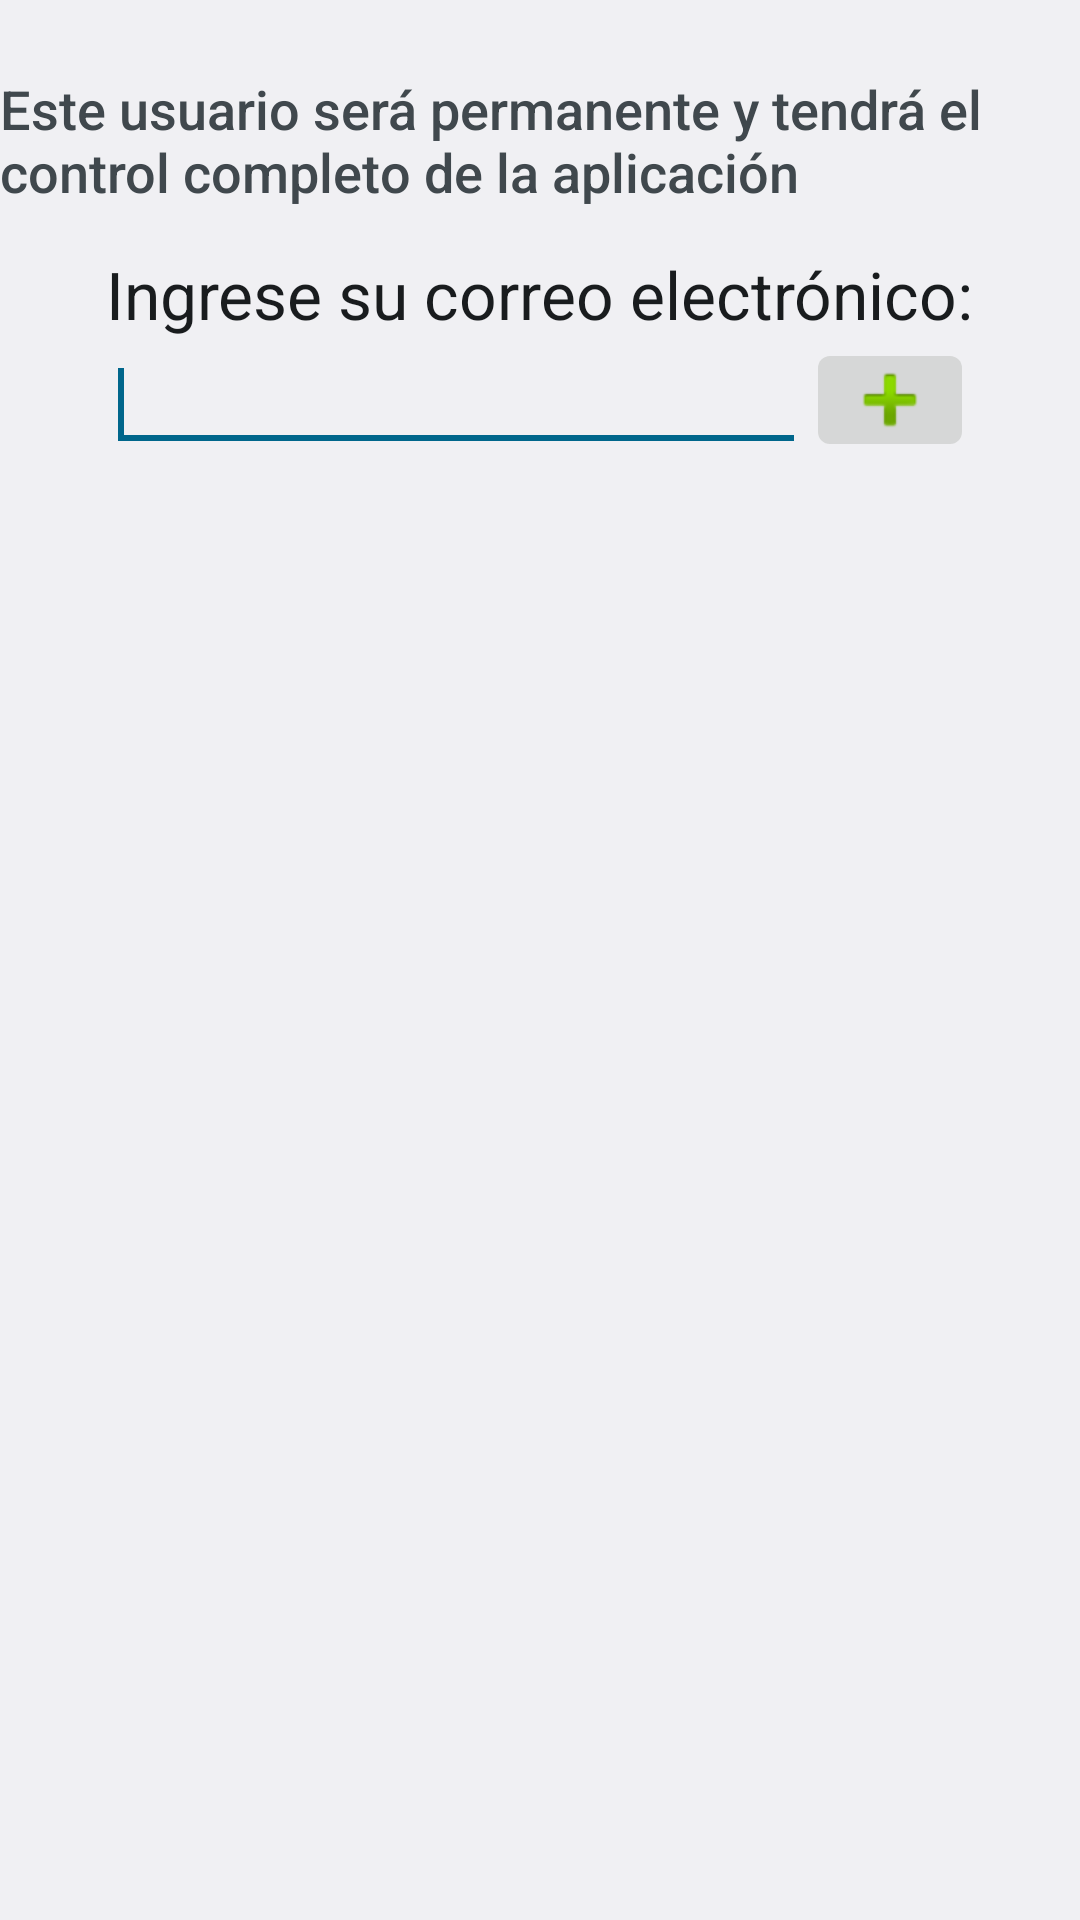

Named icons in this screenshot (1080x1920) and their centers, point (x, y):
add: point (890, 400)
